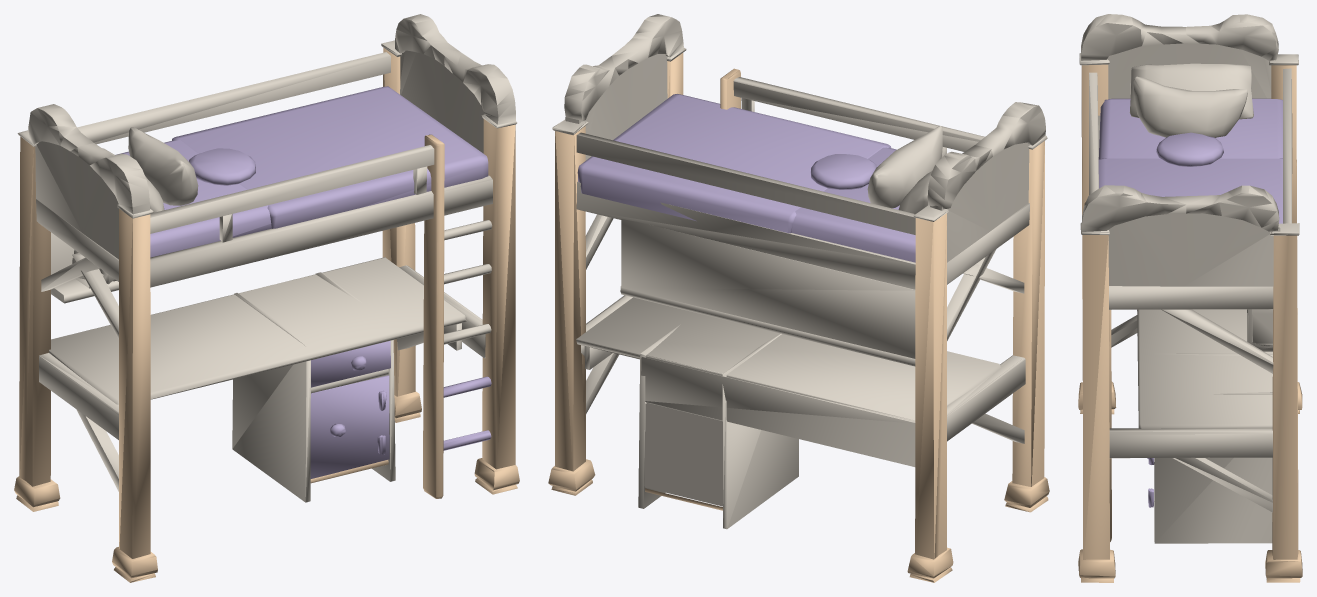
Rendered from bedroom_loft.glb.
3 views of the same model, side by side, from view 1: azimuth 30°, elevation 25°; view 2: azimuth 150°, elevation 25°; view 3: azimuth 270°, elevation 25° (orthographic). The views are drawn at different scales.
Size of the model in its own units: 4.2 by 4.2 by 2.2.
